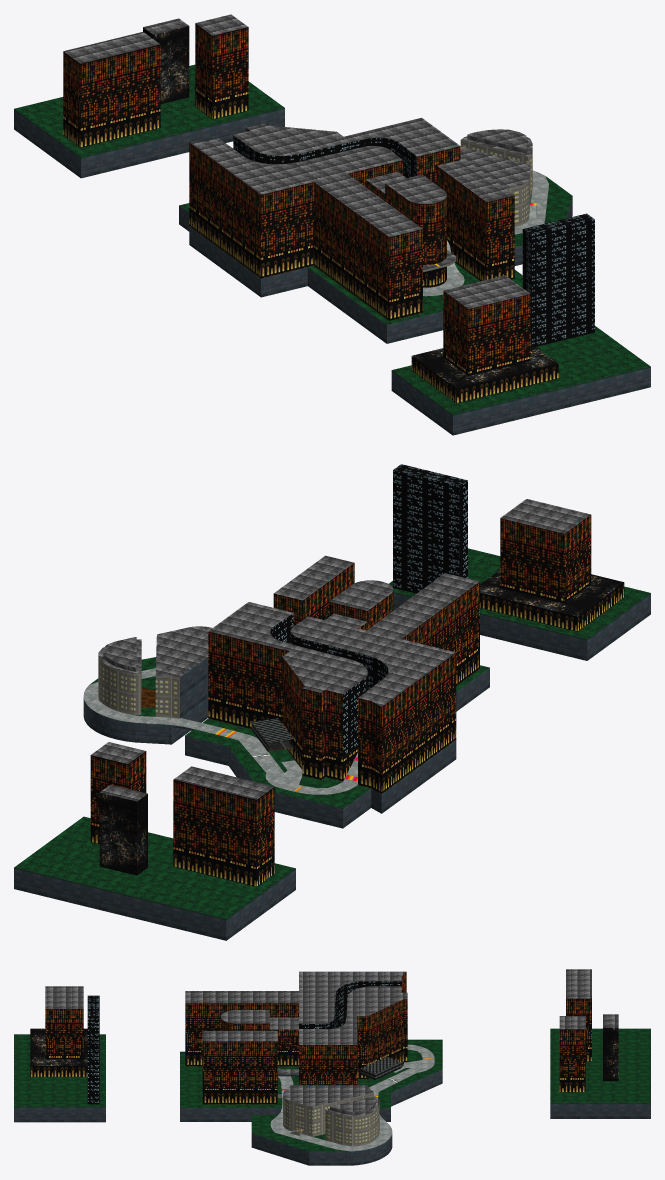
The picture shows the model from 3 angles, top to bottom: view 1: azimuth 30°, elevation 25°; view 2: azimuth 150°, elevation 25°; view 3: azimuth 270°, elevation 25°; orthographic projection. The views are drawn at different scales.
Visible parts, largest first — view 1: Downtown_Main-Moonlight_Houses, Downtown_Main-Glass_Road, Downtown_Main-Wall, Downtown_Main-Grass, Downtown_Main-Lighty_Houses, Downtown_Main-City, Downtown_Main-Road, Downtown_Main-House_with_Light; view 2: Downtown_Main-Moonlight_Houses, Downtown_Main-Glass_Road, Downtown_Main-Wall, Downtown_Main-Grass, Downtown_Main-Lighty_Houses, Downtown_Main-City, Downtown_Main-Road, Downtown_Main-House_with_Light, Downtown_Main-Metal_Thing; view 3: Downtown_Main-Moonlight_Houses, Downtown_Main-Glass_Road, Downtown_Main-Grass, Downtown_Main-Wall, Downtown_Main-House_with_Light, Downtown_Main-Lighty_Houses, Downtown_Main-Road, Downtown_Main-City, Downtown_Main-Metal_Thing.
Part boxes in pixels (x1,y1,x2,y2): Downtown_Main-Moonlight_Houses: (63, 23, 558, 403); Downtown_Main-Glass_Road: (63, 14, 532, 308); Downtown_Main-Wall: (14, 108, 650, 435); Downtown_Main-Grass: (14, 64, 650, 414); Downtown_Main-Lighty_Houses: (233, 135, 594, 346); Downtown_Main-City: (143, 26, 558, 388); Downtown_Main-Road: (423, 170, 548, 296); Downtown_Main-House_with_Light: (460, 140, 536, 226); Downtown_Main-Moonlight_Houses: (90, 515, 624, 886); Downtown_Main-Glass_Road: (91, 499, 590, 801); Downtown_Main-Wall: (14, 592, 650, 940); Downtown_Main-Grass: (14, 548, 650, 919); Downtown_Main-Lighty_Houses: (270, 464, 467, 757); Downtown_Main-City: (99, 570, 623, 875); Downtown_Main-Road: (83, 668, 357, 794); Downtown_Main-House_with_Light: (98, 652, 179, 718); Downtown_Main-Metal_Thing: (252, 718, 293, 751); Downtown_Main-Moonlight_Houses: (30, 972, 591, 1104); Downtown_Main-Glass_Road: (45, 969, 618, 1116); Downtown_Main-Grass: (14, 1028, 650, 1151); Downtown_Main-Wall: (14, 1069, 650, 1165); Downtown_Main-House_with_Light: (283, 1092, 379, 1146); Downtown_Main-Lighty_Houses: (87, 981, 401, 1104); Downtown_Main-Road: (270, 1044, 434, 1151); Downtown_Main-City: (30, 1027, 618, 1081); Downtown_Main-Metal_Thing: (360, 1056, 403, 1079).
Size of the model in its own units: 89963 by 34671 by 198993.
28 materials, 28 textured.
